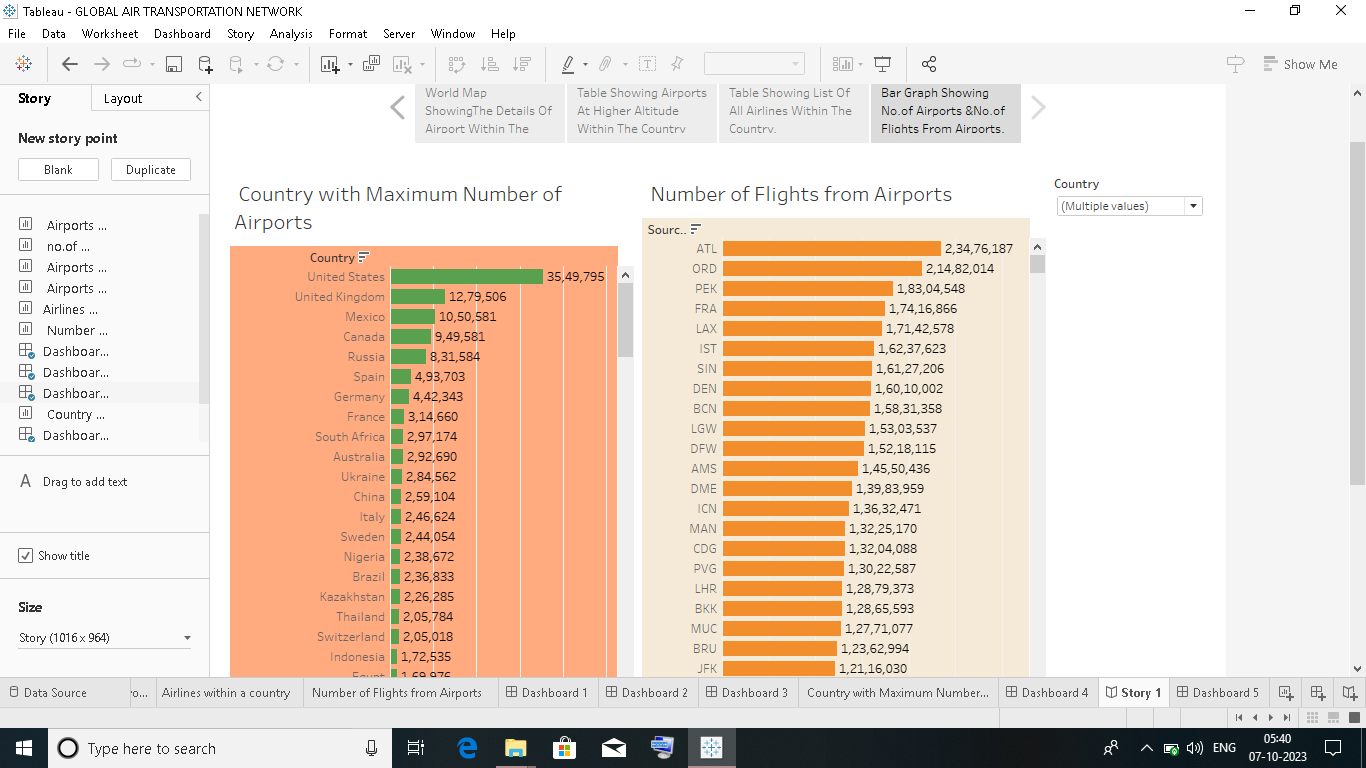

What the dashboard file says about the page in this screenshot:
{"tool":"tableau","page":{"name":"Dashboard 3","canvas":[1000,800],"ordinal":2},"visuals":[{"type":"worksheet","title":" Country with Maximum Number of Airports","mark":"Automatic","rows":["Country"],"cols":["index (routes (1).csv)"],"box":[8,8,412,784]},{"type":"worksheet","title":" Number of Flights from Airports","mark":"Automatic","rows":["Source airport"],"cols":["index (routes (1).csv)"],"box":[420,8,412,784]},{"type":"filter","title":" Country with Maximum Number of Airports","param":"[federated.10ei6qe0yz0oh80zsnboy1ecpc5a].[none:Country:nk]","box":[832,8,160,52]}]}

Visuals, with their boxes on the page's 1000x800 design canvas (x1, y1, x2, y2). These are canvas units, not pixel positions in the 1366x768 screenshot, which may show the page scaled, cropped or inside an application window:
" Country with Maximum Number of Airports" worksheet: (8, 8, 420, 792)
" Number of Flights from Airports" worksheet: (420, 8, 832, 792)
" Country with Maximum Number of Airports" filter: (832, 8, 992, 60)
